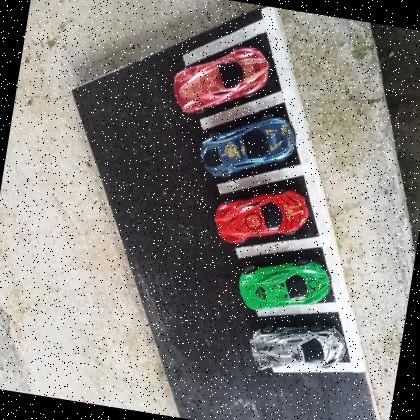Car: (168, 37, 272, 126), (198, 106, 300, 187), (210, 177, 313, 254), (234, 250, 336, 322), (246, 316, 349, 384)
